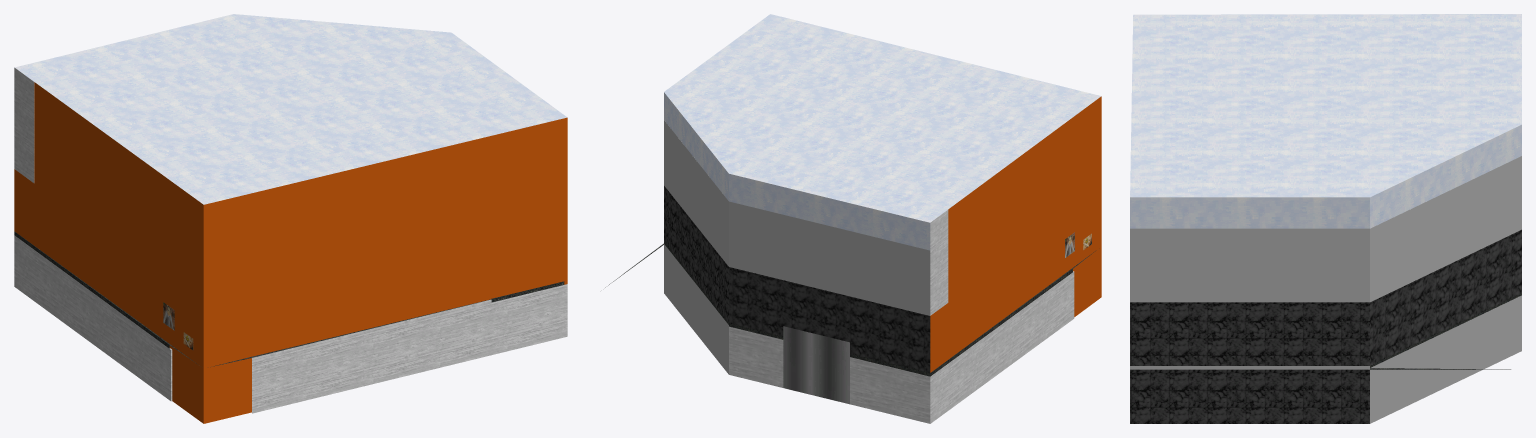
3 views of the same model, side by side, from view 1: azimuth 30°, elevation 25°; view 2: azimuth 150°, elevation 25°; view 3: azimuth 270°, elevation 25° (orthographic). The views are drawn at different scales.
Parts seen in each view (by area): view 1: nate_sm_kitchen-SKP--Material8, nate_sm_kitchen-SKP--Material16, nate_sm_kitchen-SKP--Material2, nate_sm_kitchen-SKP--Material; view 2: nate_sm_kitchen-SKP--Material16, nate_sm_kitchen-SKP--Material8, nate_sm_kitchen-SKP--Default_Material, nate_sm_kitchen-SKP--Material2, nate_sm_kitchen-SKP--Marble_Carrara_Gold_Floor_Tile, nate_sm_kitchen-SKP--Material6, nate_sm_kitchen-SKP--Material; view 3: nate_sm_kitchen-SKP--Material16, nate_sm_kitchen-SKP--Default_Material, nate_sm_kitchen-SKP--Marble_Carrara_Gold_Floor_Tile, nate_sm_kitchen-SKP--Material.
Boxes of the visible parts, <box> form: nate_sm_kitchen-SKP--Material8: <box>14,82,567,423</box>; nate_sm_kitchen-SKP--Material16: <box>14,14,567,204</box>; nate_sm_kitchen-SKP--Material2: <box>14,67,567,413</box>; nate_sm_kitchen-SKP--Material: <box>14,231,564,367</box>; nate_sm_kitchen-SKP--Material16: <box>664,14,1101,250</box>; nate_sm_kitchen-SKP--Material8: <box>930,96,1101,372</box>; nate_sm_kitchen-SKP--Default_Material: <box>664,120,930,374</box>; nate_sm_kitchen-SKP--Material2: <box>729,210,1074,423</box>; nate_sm_kitchen-SKP--Marble_Carrara_Gold_Floor_Tile: <box>664,186,930,372</box>; nate_sm_kitchen-SKP--Material6: <box>783,326,849,404</box>; nate_sm_kitchen-SKP--Material: <box>605,242,1096,376</box>; nate_sm_kitchen-SKP--Material16: <box>1130,14,1521,228</box>; nate_sm_kitchen-SKP--Default_Material: <box>1130,156,1521,423</box>; nate_sm_kitchen-SKP--Marble_Carrara_Gold_Floor_Tile: <box>1130,229,1521,423</box>; nate_sm_kitchen-SKP--Material: <box>1370,293,1521,369</box>.
Size of the model in its own units: 80982 by 46605 by 73071.
Materials: 28 (24 with a texture image).
